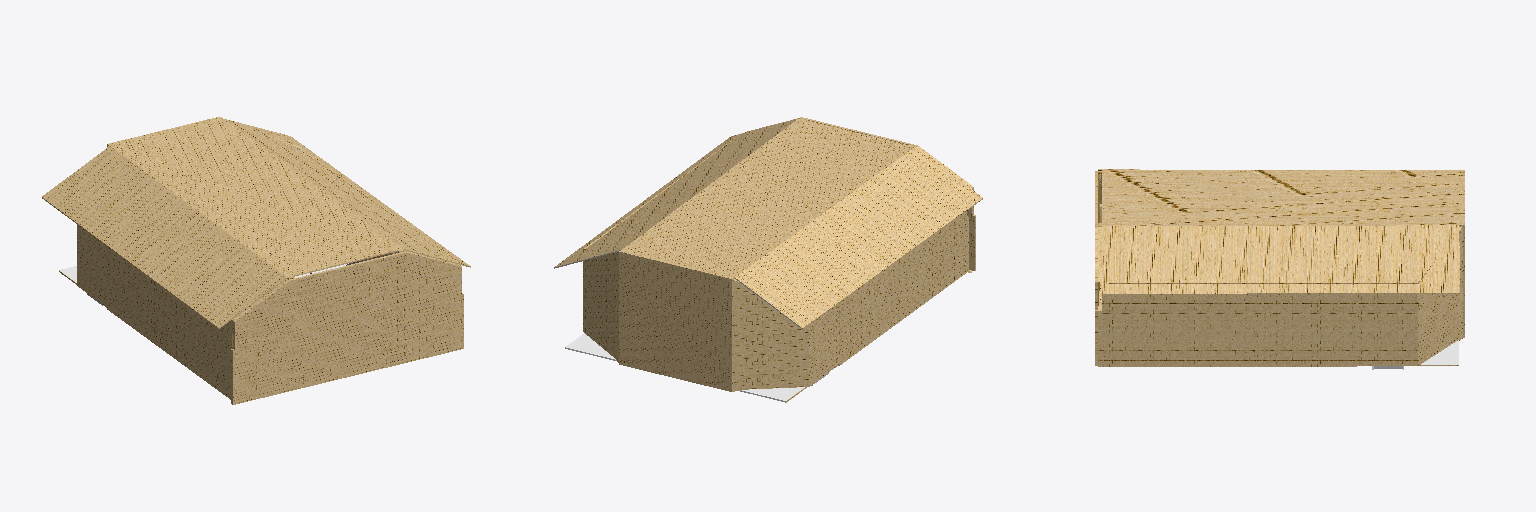
The picture shows the model from 3 angles: view 1: azimuth 30°, elevation 25°; view 2: azimuth 150°, elevation 25°; view 3: azimuth 270°, elevation 25°; orthographic projection.
Parts seen in each view (by area): view 1: Object.1, Object.32, Object.29; view 2: Object.1, Object.29, Object.31, Object.30, Object.6, Object.32; view 3: Object.1, Object.30, Object.32, Object.31.
Part boxes in pixels (left/top/right/bottom): Object.1: left=42, top=118, right=470, bottom=328; Object.32: left=231, top=249, right=463, bottom=404; Object.29: left=59, top=146, right=232, bottom=399; Object.1: left=554, top=118, right=982, bottom=329; Object.29: left=733, top=211, right=968, bottom=402; Object.31: left=619, top=250, right=734, bottom=391; Object.30: left=583, top=133, right=741, bottom=362; Object.6: left=565, top=333, right=804, bottom=402; Object.32: left=747, top=117, right=975, bottom=272; Object.1: left=1102, top=169, right=1459, bottom=294; Object.30: left=1098, top=227, right=1462, bottom=366; Object.32: left=1095, top=169, right=1101, bottom=365; Object.31: left=1459, top=170, right=1464, bottom=337.
Size of the model in its own units: 94.83 by 41.81 by 120.
11 materials, 7 textured.